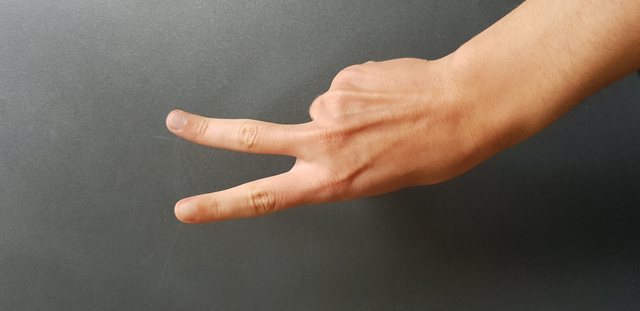Scissors: (148, 50, 481, 234)
